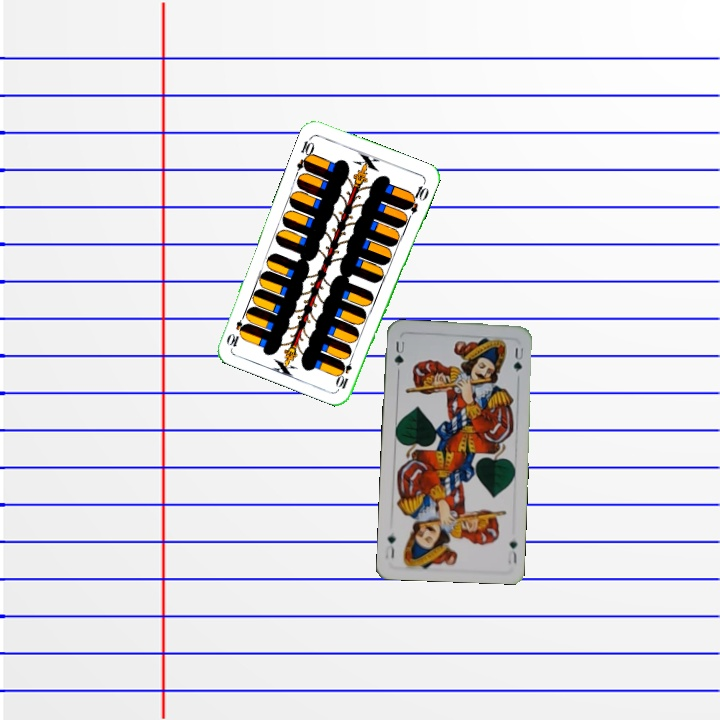E10: (292, 133, 317, 174), (334, 351, 356, 392)
GU: (390, 337, 407, 368), (504, 536, 520, 567)
